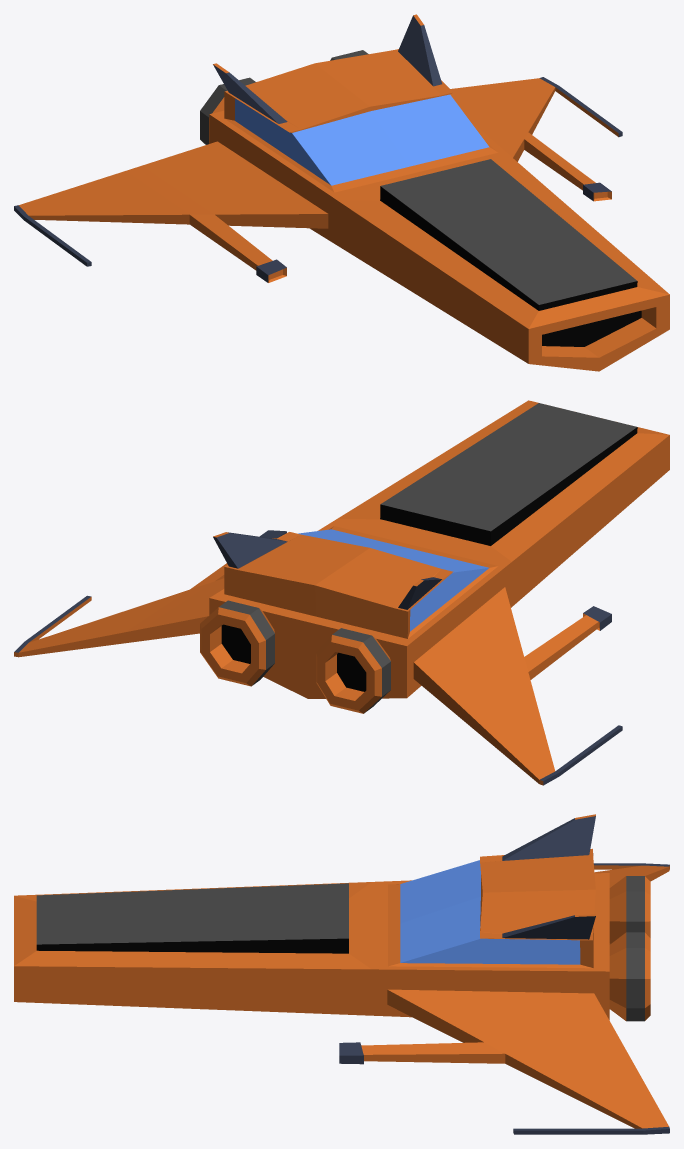
File: NebulaDrifter425.glb
3 renders of one model, top to bottom at view 1: azimuth 30°, elevation 25°; view 2: azimuth 150°, elevation 25°; view 3: azimuth 270°, elevation 25°, orthographic. The views are drawn at different scales.
Visible parts, largest first — view 1: NebulaDrifter425; view 2: NebulaDrifter425; view 3: NebulaDrifter425.
Boxes of the visible parts, <box> form: NebulaDrifter425: <box>14,14,669,371</box>; NebulaDrifter425: <box>14,400,669,785</box>; NebulaDrifter425: <box>14,814,669,1134</box>.
Size of the model in its own units: 14.28 by 3.39 by 14.8.
Materials: 1 (1 with a texture image).
